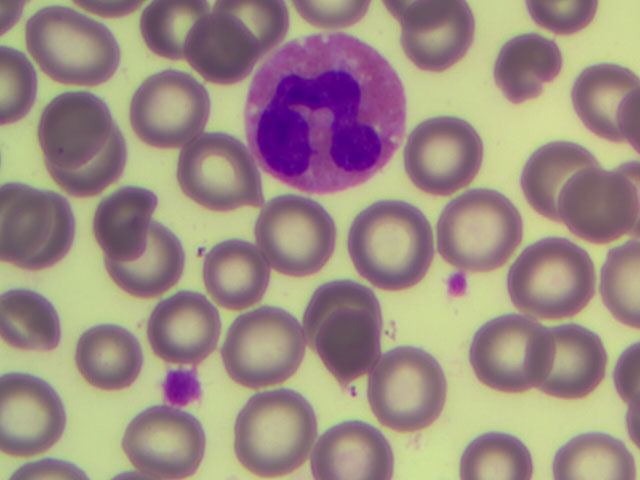Platelets: (161, 366, 203, 410), (441, 269, 472, 300)
RBC: (25, 4, 118, 89), (258, 193, 337, 277), (353, 197, 432, 281), (439, 180, 518, 264), (408, 109, 487, 193), (510, 129, 589, 213), (556, 166, 635, 250), (515, 234, 594, 318), (470, 314, 549, 398), (531, 317, 610, 401), (373, 347, 452, 431), (306, 284, 385, 368), (224, 308, 303, 392), (231, 385, 310, 469), (312, 396, 391, 480), (485, 32, 569, 106), (392, 1, 476, 74), (123, 409, 206, 480), (577, 63, 640, 148), (40, 92, 106, 162), (55, 122, 121, 192), (3, 380, 69, 450), (77, 324, 143, 394), (152, 293, 218, 363), (203, 240, 269, 310), (117, 235, 183, 305), (93, 181, 159, 251), (177, 141, 243, 211), (137, 77, 203, 147), (186, 19, 252, 89), (140, 2, 206, 72), (1, 185, 66, 255), (1, 283, 66, 353), (458, 426, 536, 480), (554, 426, 632, 480)
WBC: (244, 30, 410, 191)
